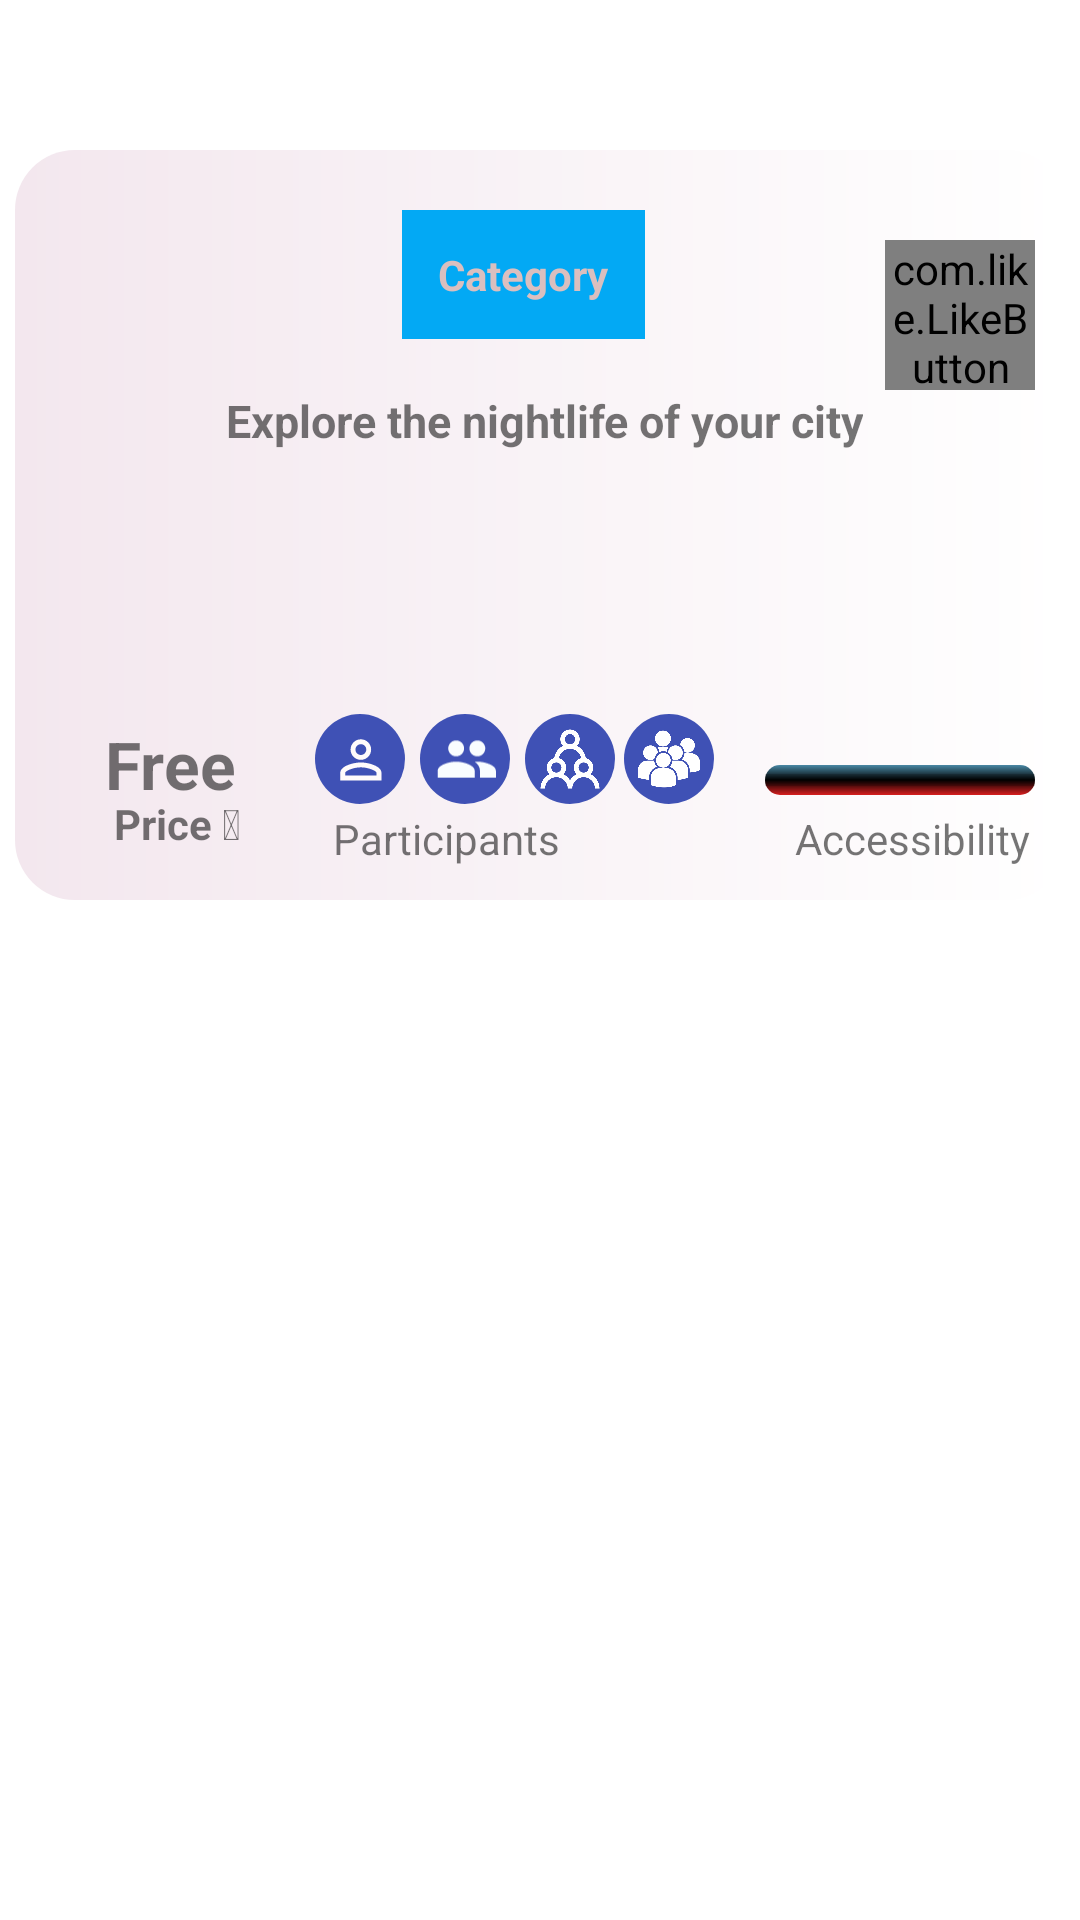

Screen size 1080*1920. Icon name, then its center in pixels as (x,y):
groupv: (570,759)
groupvv: (669,759)
person: (360,759)
